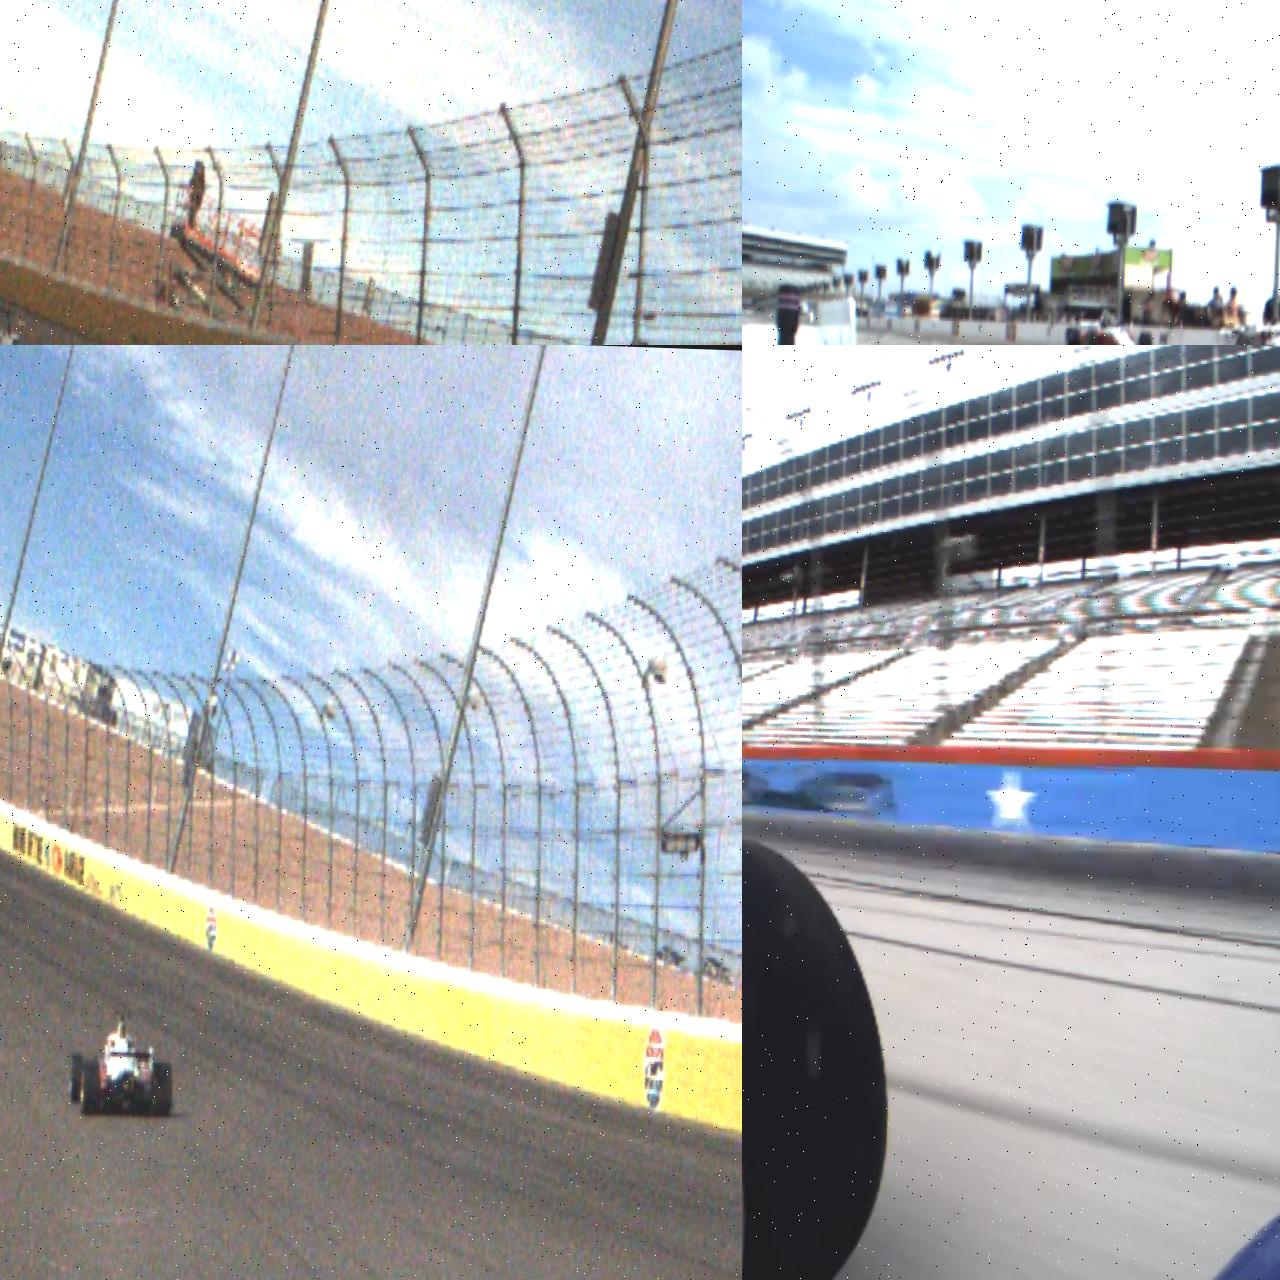AV: (68, 1009, 176, 1119), (1064, 309, 1160, 345)
Wheel: (742, 830, 897, 1280), (152, 1061, 174, 1118), (81, 1058, 101, 1116), (70, 1054, 84, 1103), (1233, 333, 1265, 345), (1065, 327, 1080, 345), (1138, 331, 1152, 345), (1086, 331, 1097, 345)
